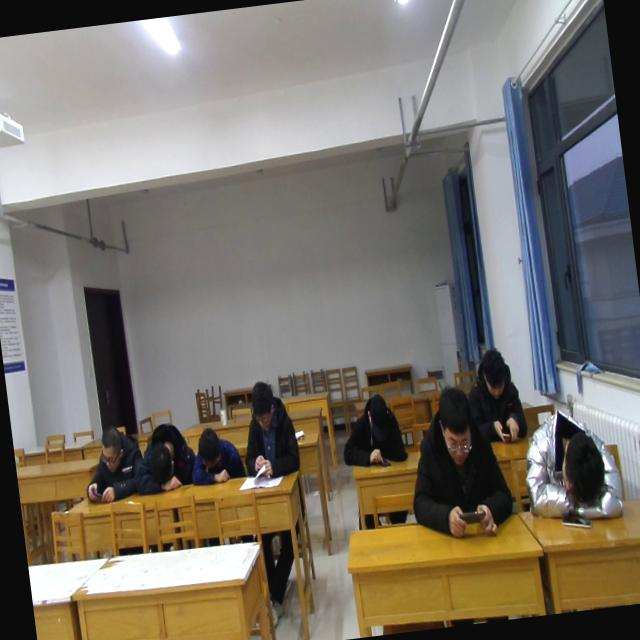bow: (515, 402, 626, 529), (75, 417, 148, 508), (128, 414, 201, 499), (336, 388, 408, 472), (184, 420, 247, 490)
down: (431, 380, 480, 468), (474, 343, 510, 399), (245, 374, 278, 434), (359, 390, 394, 437), (94, 422, 124, 472)
sit: (396, 379, 520, 550), (459, 337, 534, 451), (234, 376, 304, 484)
